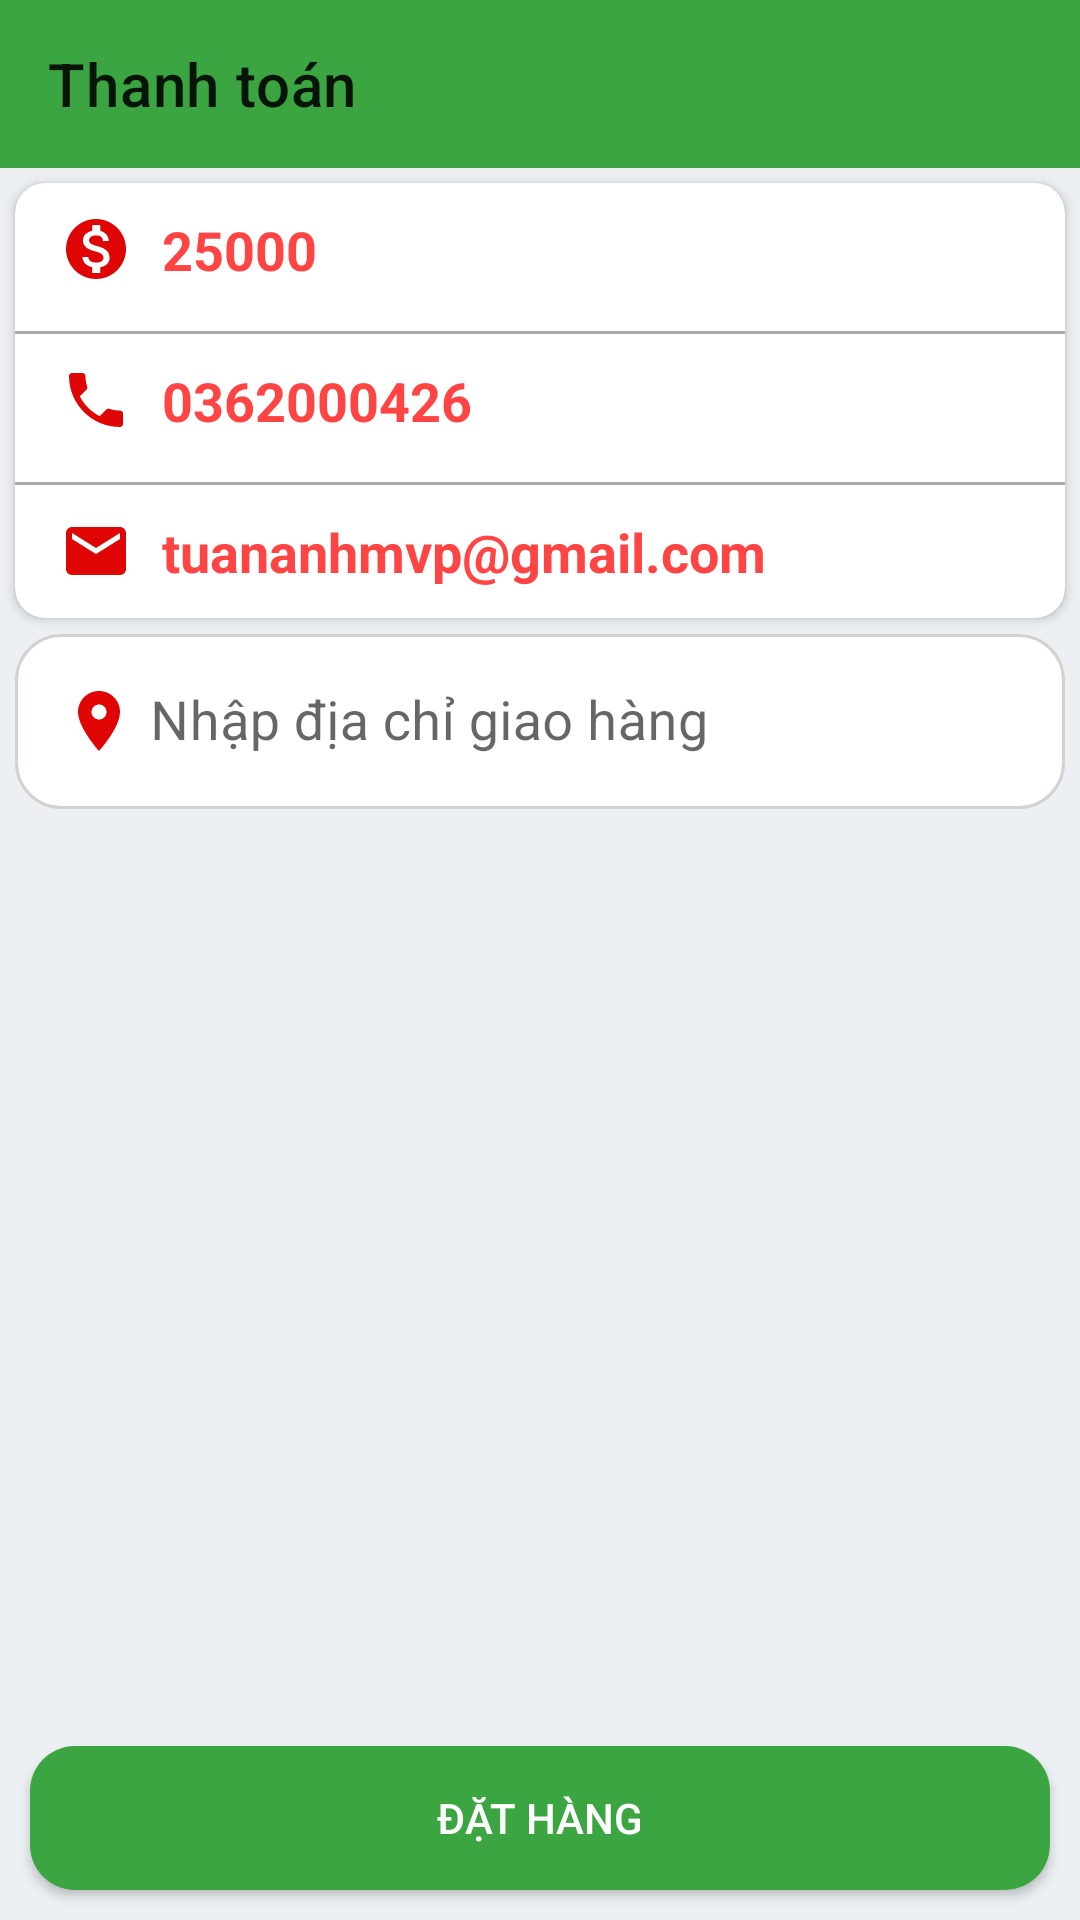

Icons on this 1080x1920 Android screen, each with its box as bbox=(x1, y1, x2, y2):
email: bbox=(66, 527, 126, 575)
icmonetization: bbox=(66, 219, 126, 279)
phonecall: bbox=(69, 373, 123, 427)
